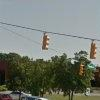Traffic light: (39, 30, 52, 52)
